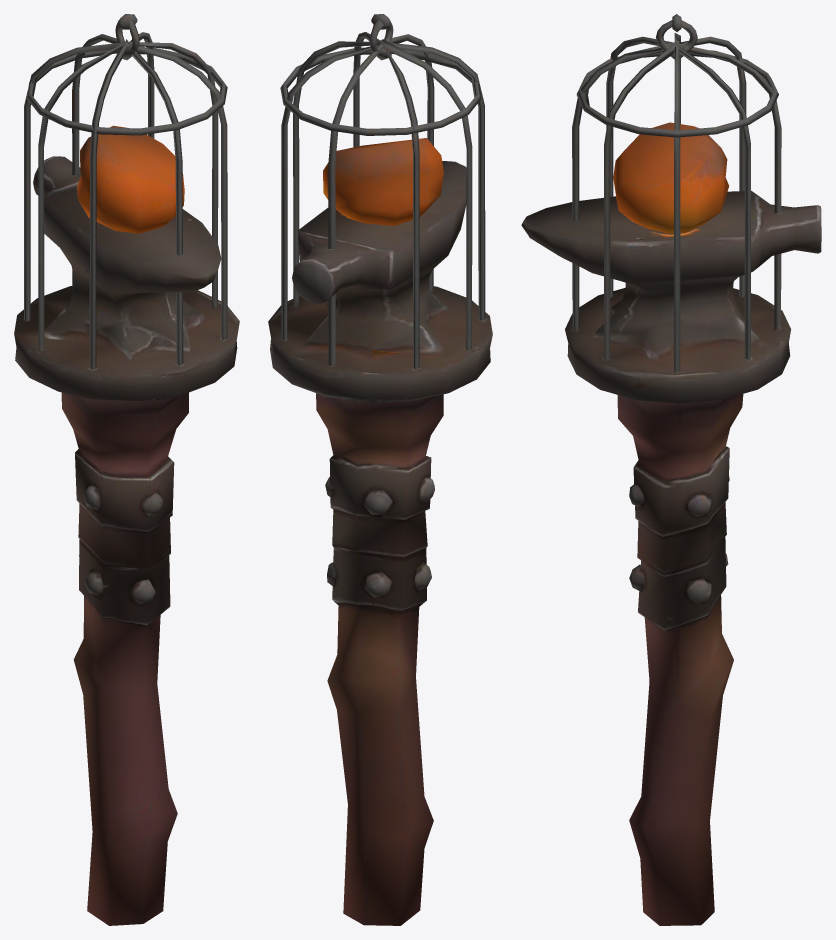
The model's file is forgeheart_stave.glb.
3 renders of one model, left to right at view 1: azimuth 30°, elevation 25°; view 2: azimuth 150°, elevation 25°; view 3: azimuth 270°, elevation 25°, orthographic.
Parts seen in each view (by area): view 1: tripo_node_0b753046-b45f-4849-9c04-de0fe74c48f9; view 2: tripo_node_0b753046-b45f-4849-9c04-de0fe74c48f9; view 3: tripo_node_0b753046-b45f-4849-9c04-de0fe74c48f9.
Part boxes in pixels (bbox=[...]): tripo_node_0b753046-b45f-4849-9c04-de0fe74c48f9: bbox=[14, 14, 239, 925]; tripo_node_0b753046-b45f-4849-9c04-de0fe74c48f9: bbox=[268, 14, 492, 925]; tripo_node_0b753046-b45f-4849-9c04-de0fe74c48f9: bbox=[521, 14, 821, 925].
Size of the model in its own units: 0.5246 by 2.28 by 0.6917.
Materials: 1 (1 with a texture image).
